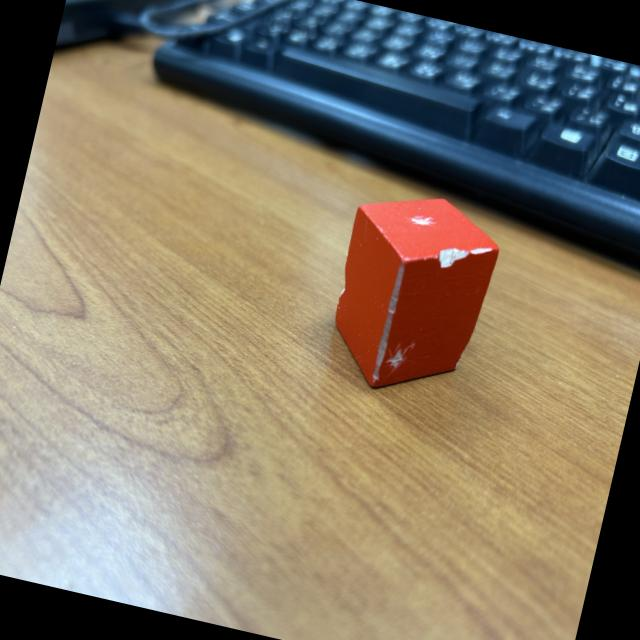broken: (317, 178, 508, 409)
